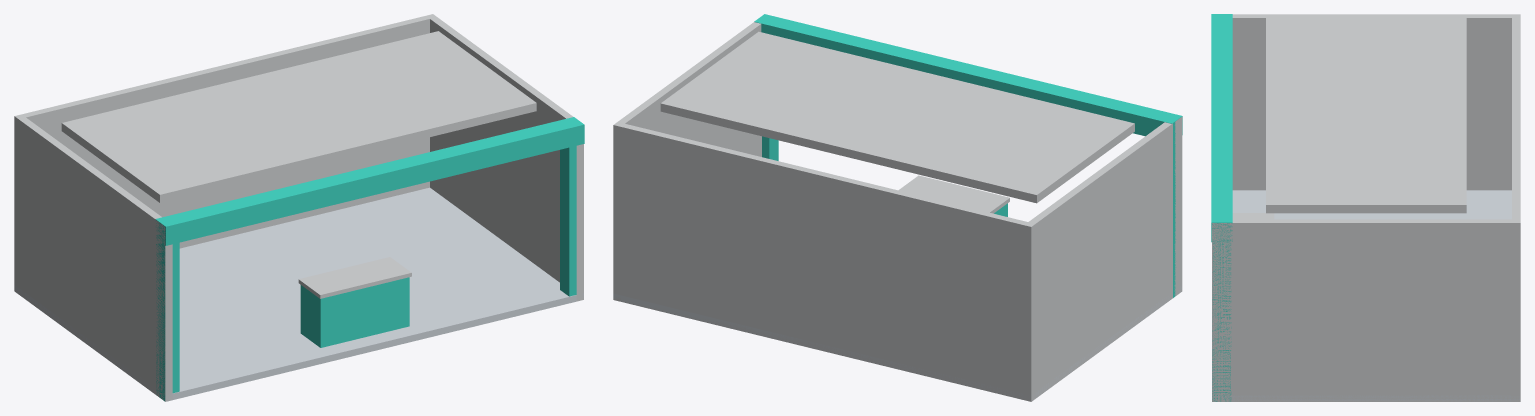
3 views of the same model, side by side, from view 1: azimuth 30°, elevation 25°; view 2: azimuth 150°, elevation 25°; view 3: azimuth 270°, elevation 25° (orthographic). The views are drawn at different scales.
Visible parts, largest first — view 1: Exhibition Booth Concept; view 2: Exhibition Booth Concept; view 3: Exhibition Booth Concept.
Boxes of the visible parts, <box> form: Exhibition Booth Concept: <box>14,14,584,401</box>; Exhibition Booth Concept: <box>613,14,1182,401</box>; Exhibition Booth Concept: <box>1211,14,1520,401</box>.
Bounding box in the file's own units: 8 × 3.34 × 5.02.
